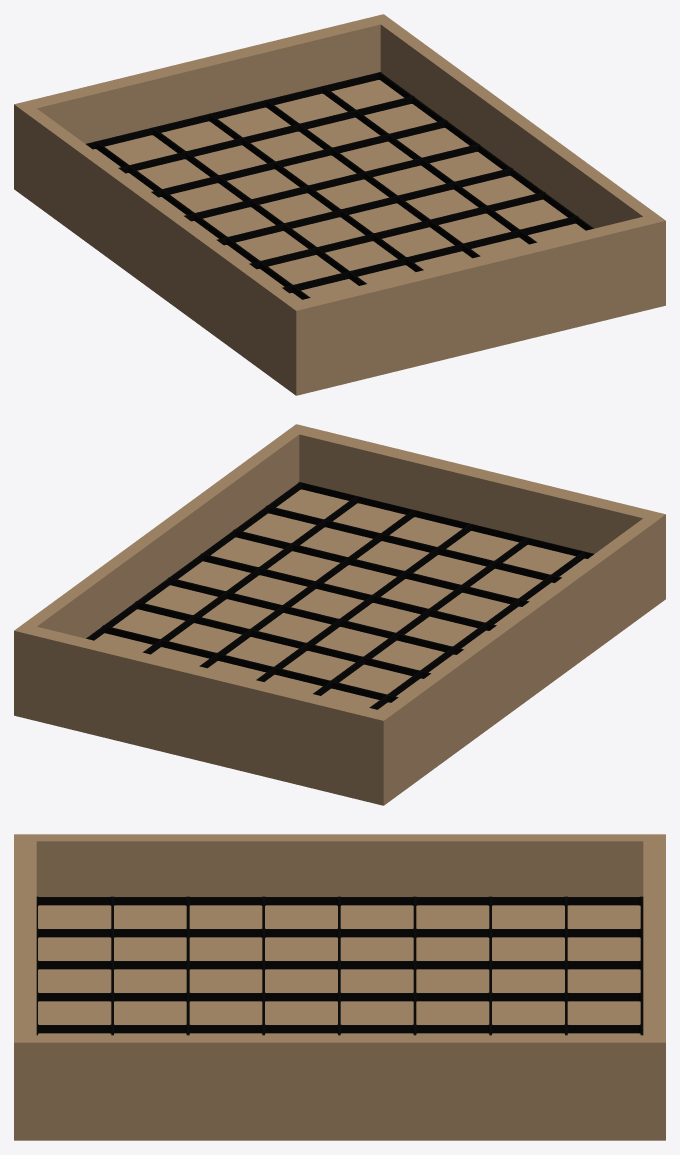
File: arena.fbx
3 views of the same model, one above another, from view 1: azimuth 30°, elevation 25°; view 2: azimuth 150°, elevation 25°; view 3: azimuth 270°, elevation 25° (orthographic). The views are drawn at different scales.
Parts seen in each view (by area): view 1: Cube, Cylinder.006; view 2: Cube, Cylinder.006; view 3: Cube, Cylinder.006.
Boxes of the visible parts, x1,y1,x2,y2 form: Cube: (14, 14, 665, 395); Cylinder.006: (86, 72, 593, 299); Cube: (14, 424, 665, 805); Cylinder.006: (86, 482, 593, 709); Cube: (14, 834, 665, 1140); Cylinder.006: (36, 896, 643, 1035).
Size of the model in its own units: 652 by 143 by 862.
